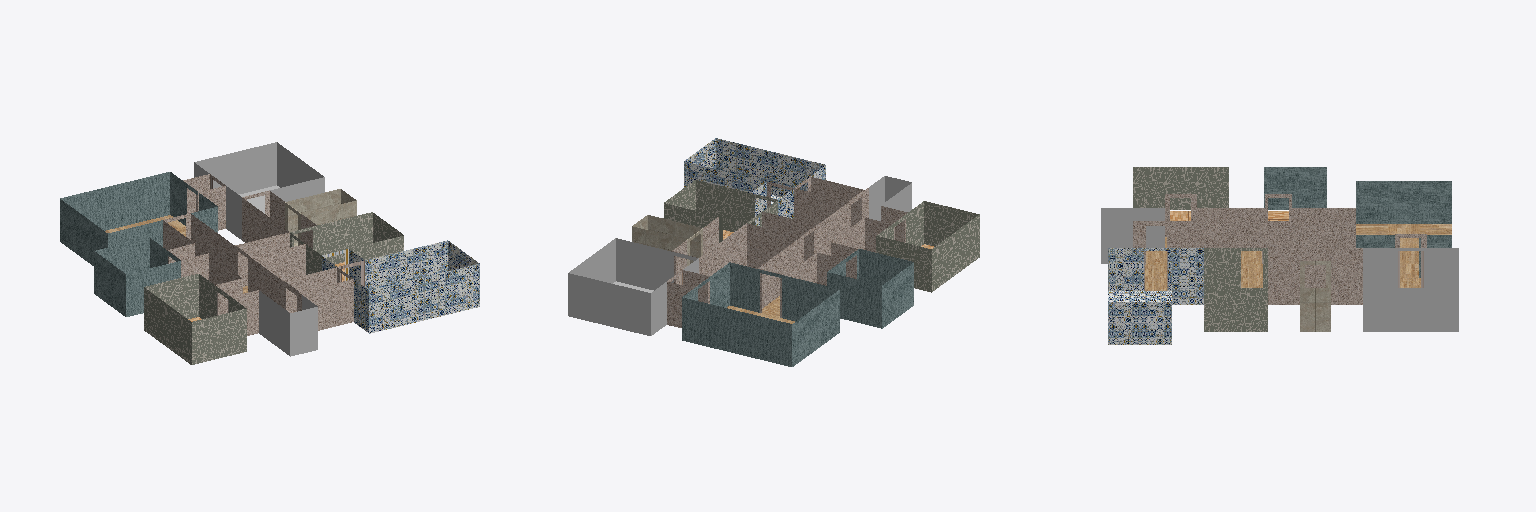
3 renders of one model, left to right at view 1: azimuth 30°, elevation 25°; view 2: azimuth 150°, elevation 25°; view 3: azimuth 270°, elevation 25°, orthographic.
Visible parts, largest first — view 1: Plane.016, Plane.056, Plane.020, Plane.065, Plane.038, Plane.013, Plane.045, Plane, Plane.043; view 2: Plane.016, Plane.020, Plane.038, Plane.065, Plane.056, Plane.013, Plane.045, Plane.043, Plane; view 3: Plane.016, Plane.038, Plane.056, Plane.020, Plane.045, Plane.065, Plane.013, Plane, Plane.015, Plane.066, Plane.043, Plane.003.
Part boxes in pixels (x1,y1,x2,y2): Plane.016: (163, 174, 364, 335); Plane.056: (322, 240, 479, 333); Plane.020: (60, 172, 217, 265); Plane.065: (144, 274, 246, 364); Plane.038: (194, 142, 324, 239); Plane.013: (94, 237, 180, 316); Plane.045: (290, 212, 403, 274); Plane: (259, 291, 317, 356); Plane.043: (285, 189, 356, 245); Plane.016: (667, 176, 907, 327); Plane.020: (682, 262, 839, 366); Plane.038: (568, 238, 698, 335); Plane.065: (876, 201, 979, 292); Plane.056: (684, 138, 825, 225); Plane.013: (827, 249, 913, 328); Plane.045: (664, 180, 777, 242); Plane.043: (632, 215, 702, 265); Plane: (869, 176, 911, 220); Plane.016: (1133, 194, 1426, 304); Plane.038: (1363, 248, 1458, 331); Plane.056: (1108, 248, 1203, 344); Plane.020: (1356, 181, 1451, 277); Plane.045: (1204, 248, 1267, 331); Plane.065: (1133, 167, 1228, 209); Plane.013: (1264, 167, 1326, 209); Plane: (1101, 208, 1164, 263); Plane.015: (1145, 237, 1420, 290); Plane.066: (1356, 224, 1451, 277); Plane.043: (1300, 261, 1330, 331); Plane.003: (1108, 291, 1171, 301).
Size of the model in its own units: 20 by 3.02 by 22.45.
Materials: 10 (7 with a texture image).